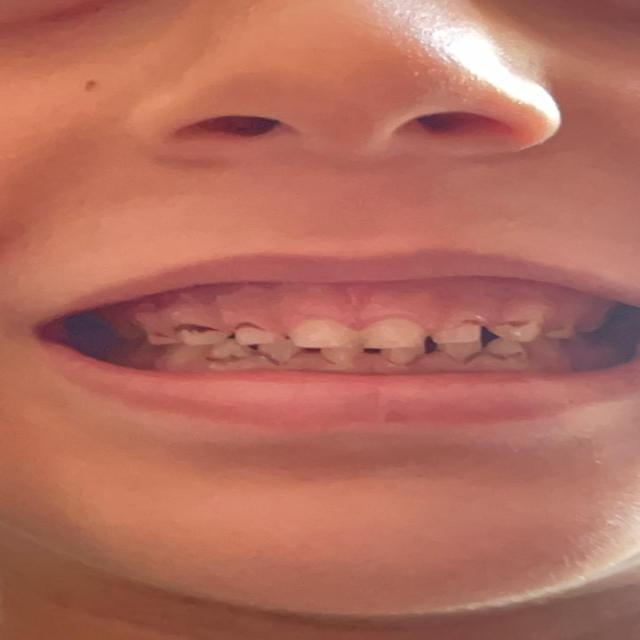tooth: (287, 322, 359, 348), (433, 323, 483, 343), (367, 327, 421, 345), (498, 321, 540, 341), (259, 347, 297, 365), (492, 343, 524, 363), (174, 324, 213, 340), (382, 347, 414, 365), (443, 346, 478, 362), (321, 349, 360, 363), (218, 342, 244, 360), (232, 330, 267, 342)
